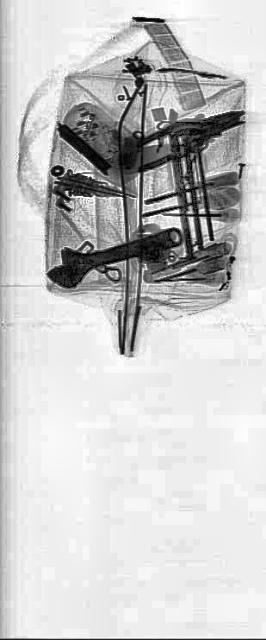Pliers: (156, 96, 245, 164)
Wrench: (44, 210, 184, 296)
